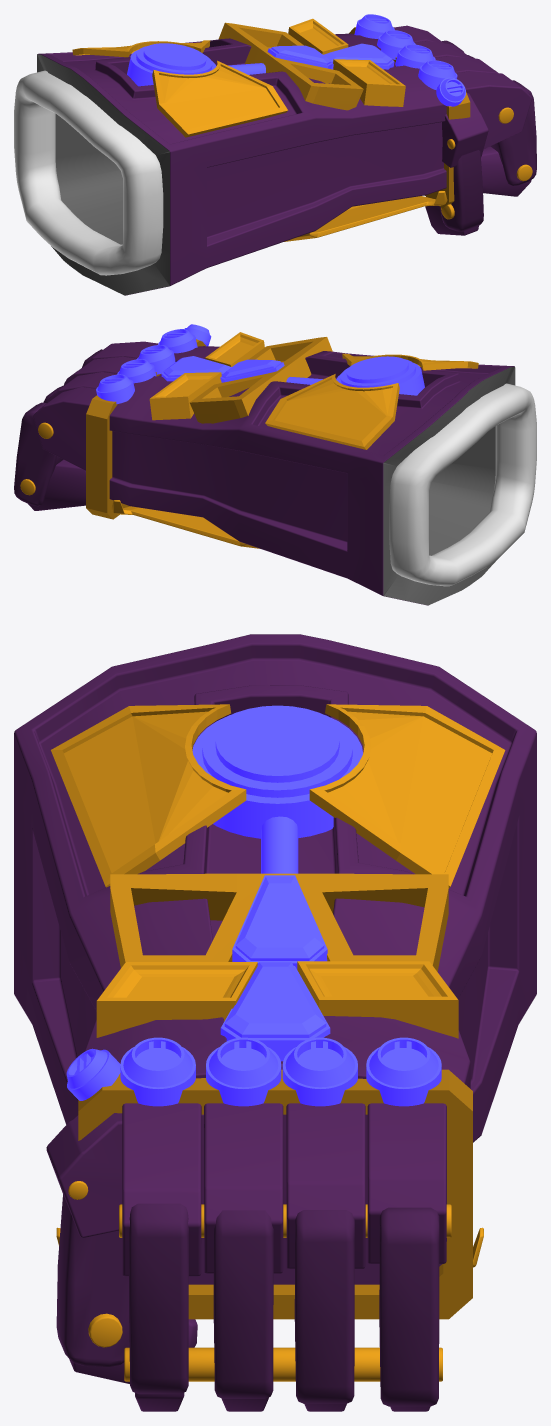
Rendered from SH_Gauntlet_L_001.fbx.
3 views of the same model, one above another, from view 1: azimuth 30°, elevation 25°; view 2: azimuth 150°, elevation 25°; view 3: azimuth 270°, elevation 25° (orthographic). The views are drawn at different scales.
Parts seen in each view (by area): view 1: SH_Gauntlet_Base_001, SH_Gauntlet_hand_glove_001, SH_Gauntlet_01_a_001, SH_Gauntlet_02_001, SH_Gauntlet_F_01_d_001, SH_Gauntlet_Core_001, SH_Gauntlet_F_02_e_001, SH_Gauntlet_hand_Base_a_001, SH_Gauntlet_03_a_001, SH_Gauntlet_F_02_d_001, SH_Gauntlet_F_01_e_001, SH_Gauntlet_F_03_b_001 (+14 smaller); view 2: SH_Gauntlet_Base_001, SH_Gauntlet_hand_glove_001, SH_Gauntlet_01_b_001, SH_Gauntlet_02_001, SH_Gauntlet_band_001, SH_Gauntlet_F_01_a_001, SH_Gauntlet_F_02_a_001, SH_Gauntlet_Core_001, SH_Gauntlet_03_b_001, SH_Gauntlet_F_03_e_001, SH_Gauntlet_hand_Base_b_001, SH_Gauntlet_03_a_001 (+10 smaller); view 3: SH_Gauntlet_Base_001, SH_Gauntlet_01_b_001, SH_Gauntlet_01_a_001, SH_Gauntlet_02_001, SH_Gauntlet_Core_001, SH_Gauntlet_band_001, SH_Gauntlet_F_02_a_001, SH_Gauntlet_F_02_b_001, SH_Gauntlet_F_02_d_001, SH_Gauntlet_F_02_c_001, SH_Gauntlet_F_01_c_001, SH_Gauntlet_F_01_b_001 (+17 smaller).
Boxes of the visible parts, x1,y1,x2,y2 form: SH_Gauntlet_Base_001: (37,33,446,295); SH_Gauntlet_hand_glove_001: (14,70,163,275); SH_Gauntlet_01_a_001: (152,60,287,137); SH_Gauntlet_02_001: (218,22,363,110); SH_Gauntlet_F_01_d_001: (456,71,531,148); SH_Gauntlet_Core_001: (127,43,216,86); SH_Gauntlet_F_02_e_001: (440,150,483,231); SH_Gauntlet_hand_Base_a_001: (284,191,447,241); SH_Gauntlet_03_a_001: (333,59,405,106); SH_Gauntlet_F_02_d_001: (490,80,536,185); SH_Gauntlet_F_01_e_001: (442,93,488,167); SH_Gauntlet_F_03_b_001: (481,146,531,196); SH_Gauntlet_Base_001: (109,346,515,605); SH_Gauntlet_hand_glove_001: (389,383,536,586); SH_Gauntlet_01_b_001: (265,374,399,449); SH_Gauntlet_02_001: (189,337,332,423); SH_Gauntlet_band_001: (86,339,205,519); SH_Gauntlet_F_01_a_001: (33,387,96,470); SH_Gauntlet_F_02_a_001: (14,402,63,506); SH_Gauntlet_Core_001: (336,356,424,395); SH_Gauntlet_03_b_001: (149,372,221,420); SH_Gauntlet_F_03_e_001: (28,459,85,510); SH_Gauntlet_hand_Base_b_001: (111,500,259,548); SH_Gauntlet_03_a_001: (205,332,264,366); SH_Gauntlet_Base_001: (14,634,536,1284); SH_Gauntlet_01_b_001: (309,704,505,888); SH_Gauntlet_01_a_001: (51,704,246,887); SH_Gauntlet_02_001: (110,873,448,971); SH_Gauntlet_Core_001: (192,705,362,838); SH_Gauntlet_band_001: (78,1069,472,1319); SH_Gauntlet_F_02_a_001: (379,1207,439,1406); SH_Gauntlet_F_02_b_001: (294,1210,354,1403); SH_Gauntlet_F_02_d_001: (129,1203,188,1394); SH_Gauntlet_F_02_c_001: (213,1210,273,1398); SH_Gauntlet_F_01_c_001: (204,1103,283,1273); SH_Gauntlet_F_01_b_001: (286,1103,365,1268).
Size of the model in its own units: 0.6281 by 0.295 by 0.3244.
